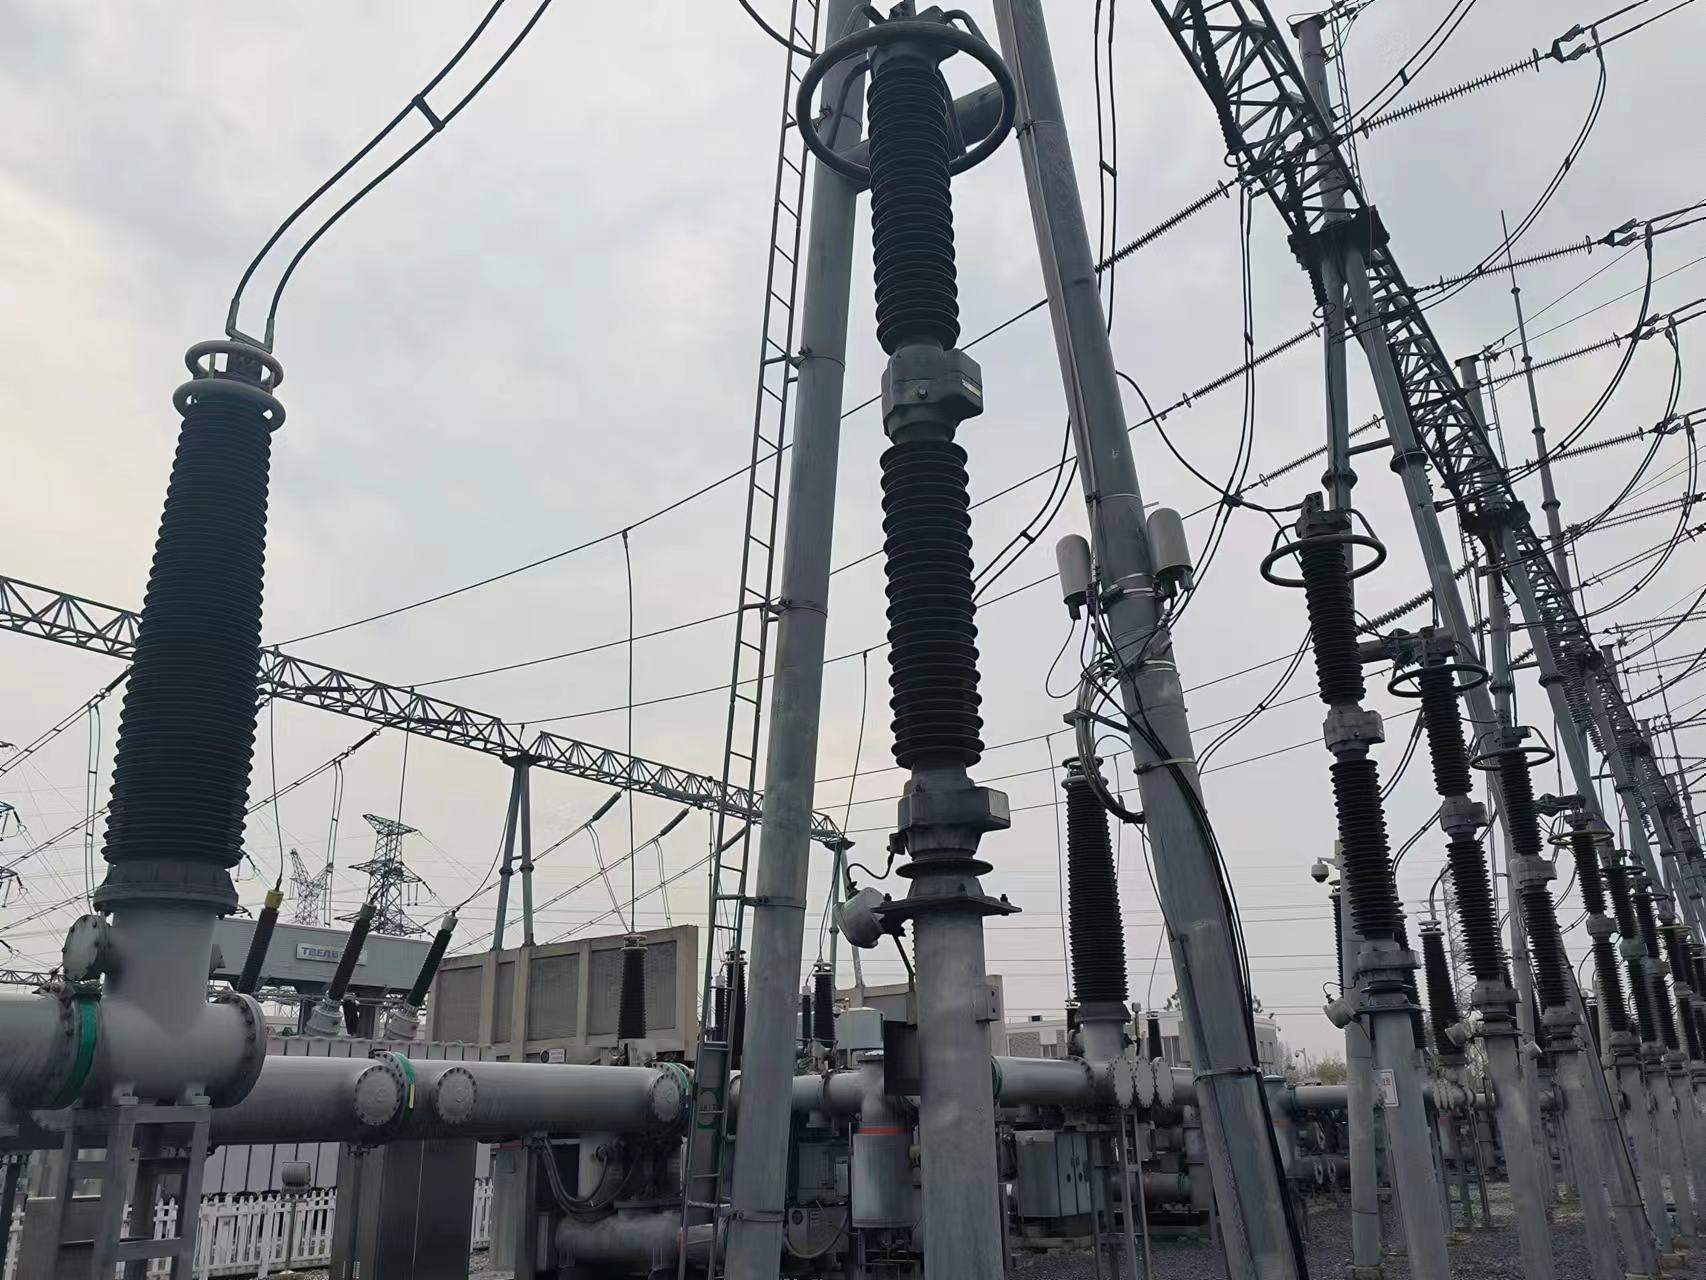Arrester: (793, 3, 1019, 783), (1261, 502, 1412, 943)
Voltage transformer: (99, 337, 289, 870), (1055, 758, 1132, 1004)
